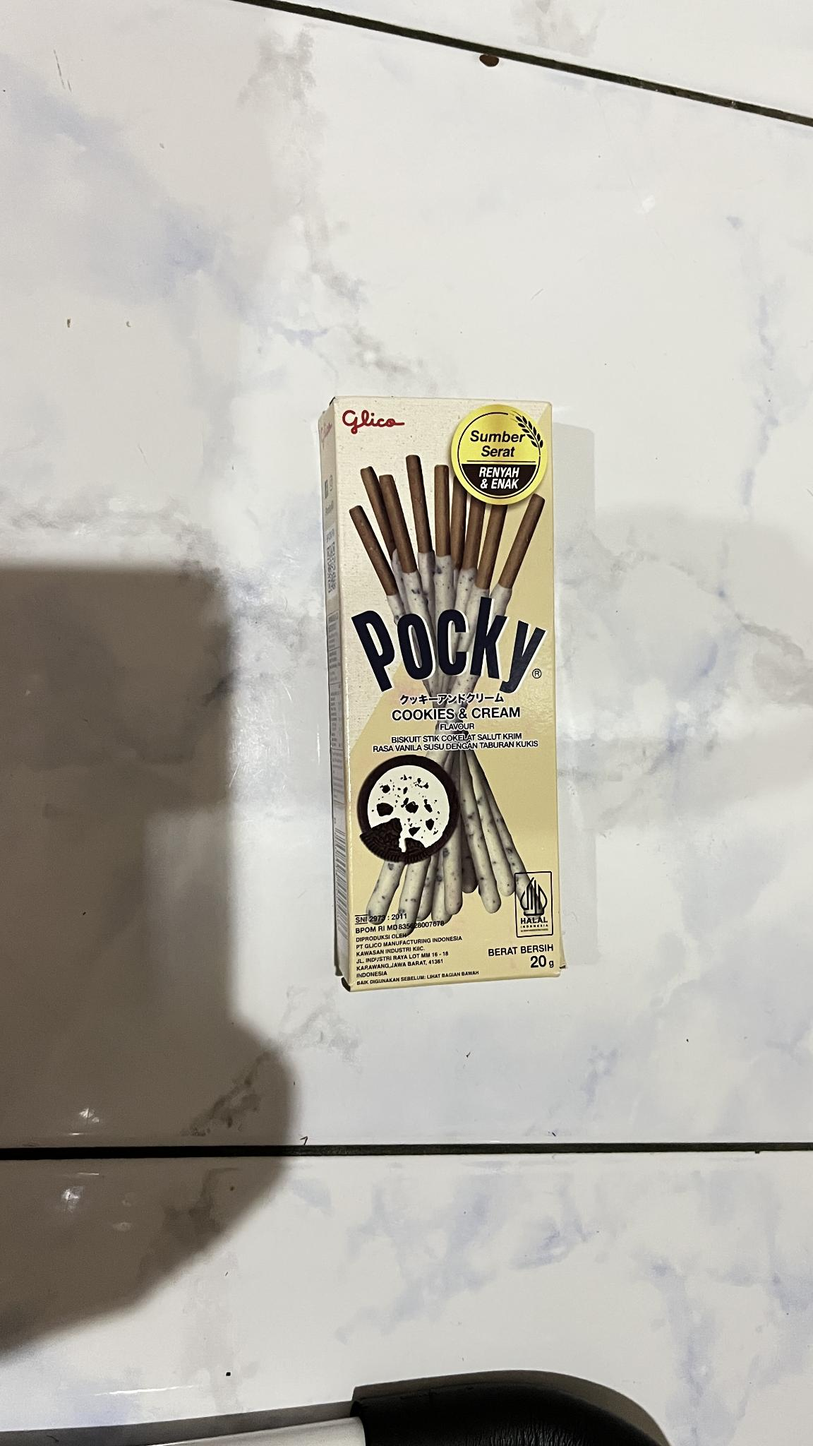Kertas: (315, 398, 566, 993)
